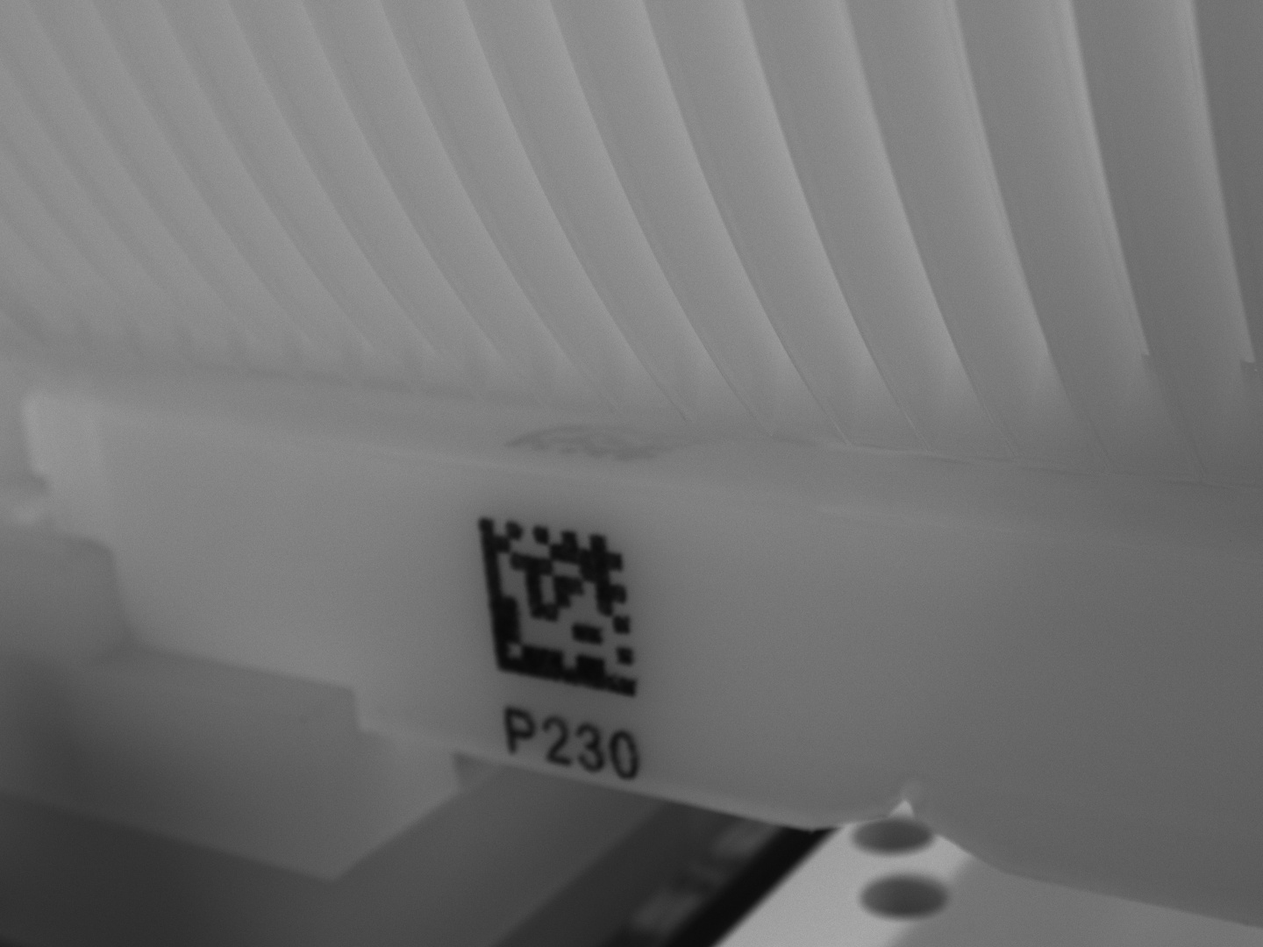datamatrix: (474, 509, 642, 701)
text: (499, 702, 643, 785)
